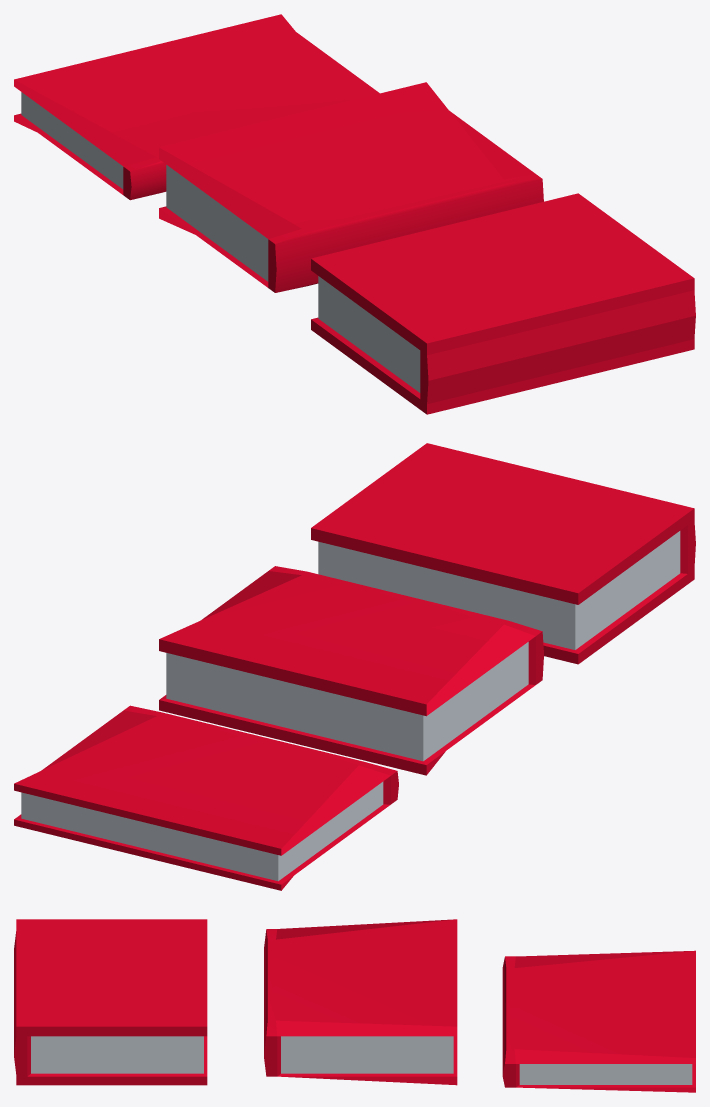
Rendered from KNIGA.fbx.
3 renders of one model, top to bottom at view 1: azimuth 30°, elevation 25°; view 2: azimuth 150°, elevation 25°; view 3: azimuth 270°, elevation 25°, orthographic. The views are drawn at different scales.
Visible parts, largest first — view 1: Cube, Cube.001, Cube.002; view 2: Cube.001, Cube, Cube.002; view 3: Cube, Cube.001, Cube.002.
Boxes of the visible parts, left/top/right/bottom form: Cube: left=311, top=193, right=695, bottom=414; Cube.001: left=159, top=82, right=543, bottom=292; Cube.002: left=14, top=14, right=379, bottom=200; Cube.001: left=159, top=566, right=543, bottom=775; Cube: left=311, top=443, right=695, bottom=664; Cube.002: left=14, top=705, right=398, bottom=890; Cube: left=14, top=919, right=207, bottom=1085; Cube.001: left=264, top=919, right=457, bottom=1085; Cube.002: left=502, top=950, right=695, bottom=1092.
Bounding box in the file's own units: 674 × 193 × 1809.
